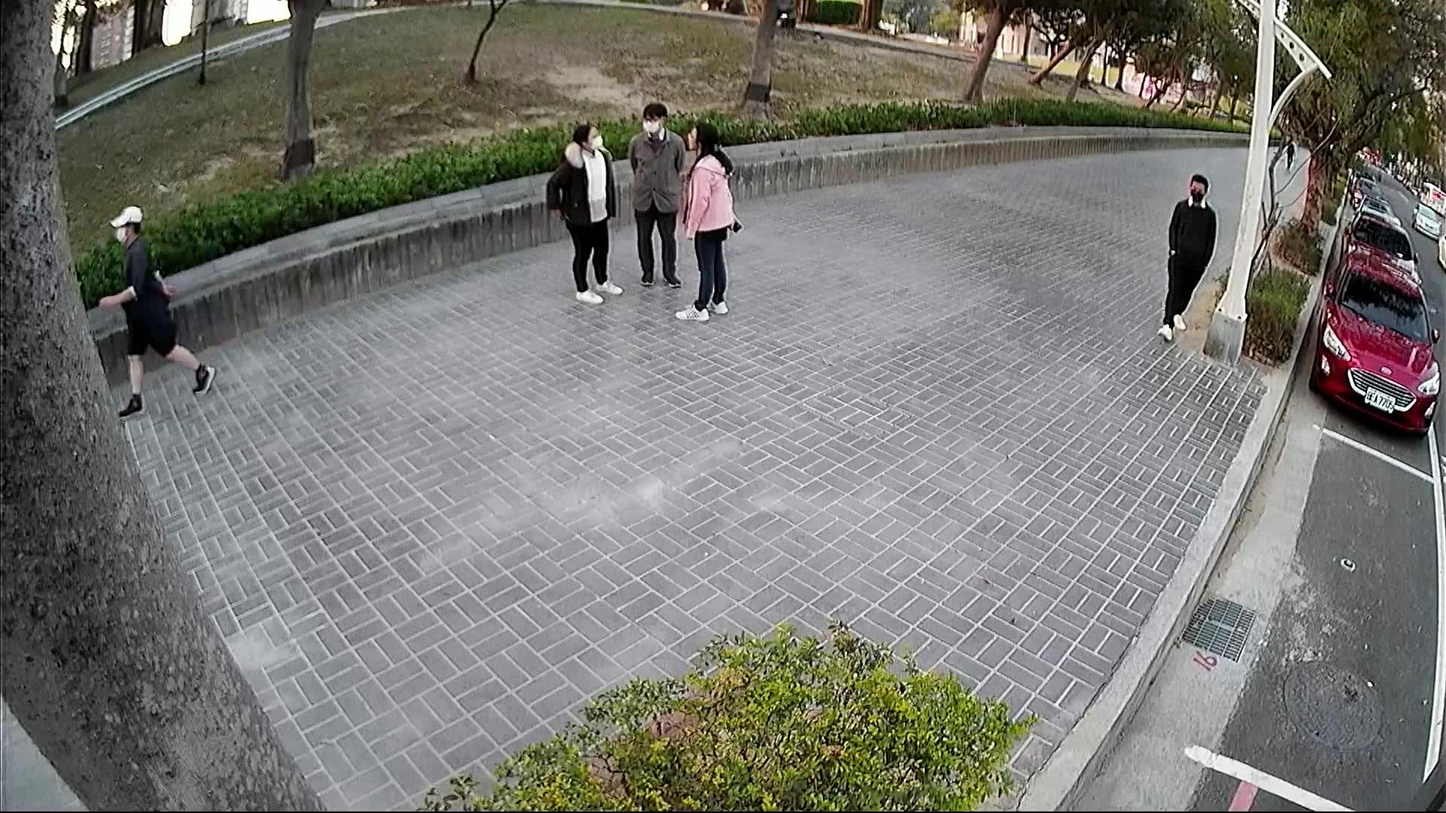person: (90, 199, 217, 419), (667, 114, 746, 324), (540, 116, 624, 306), (1149, 166, 1219, 348), (626, 99, 687, 288)
